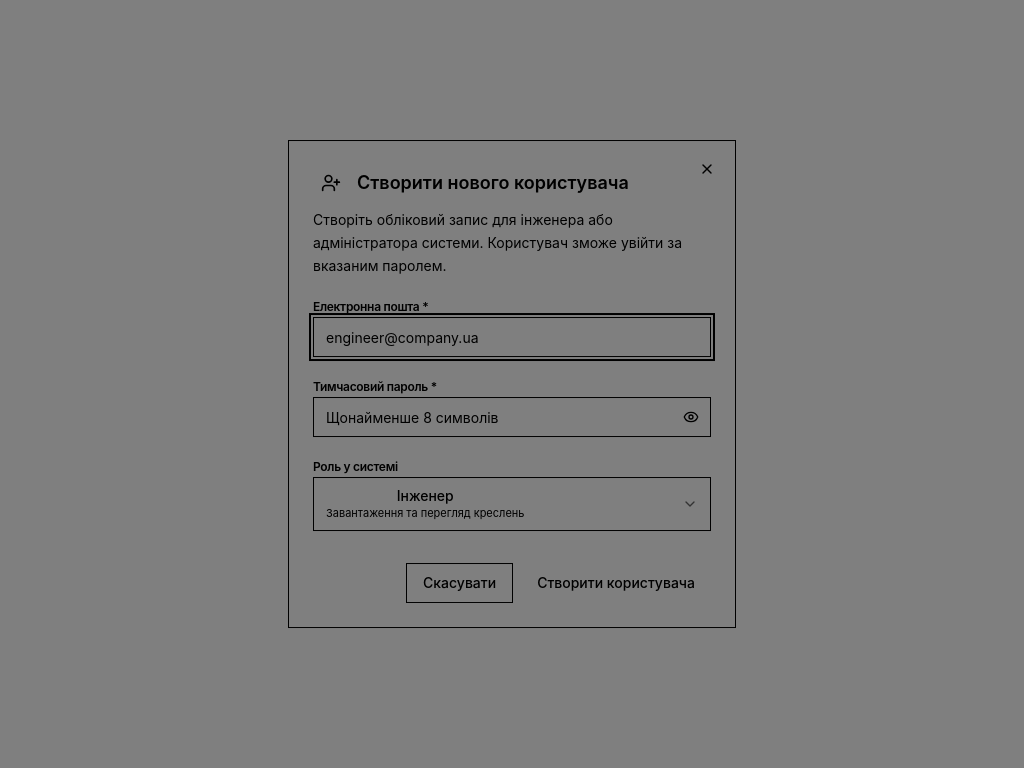
Test case: CreateUserDialog Component (BIM-66 Phase 4) › Client-side Form Validation › shows validation errors for required fields on empty submit and prevents mutation
The width and height of the screenshot is (1024, 768).
Click the button with test id "create-user-submit-button" at (616, 583), box [521,563,711,603]
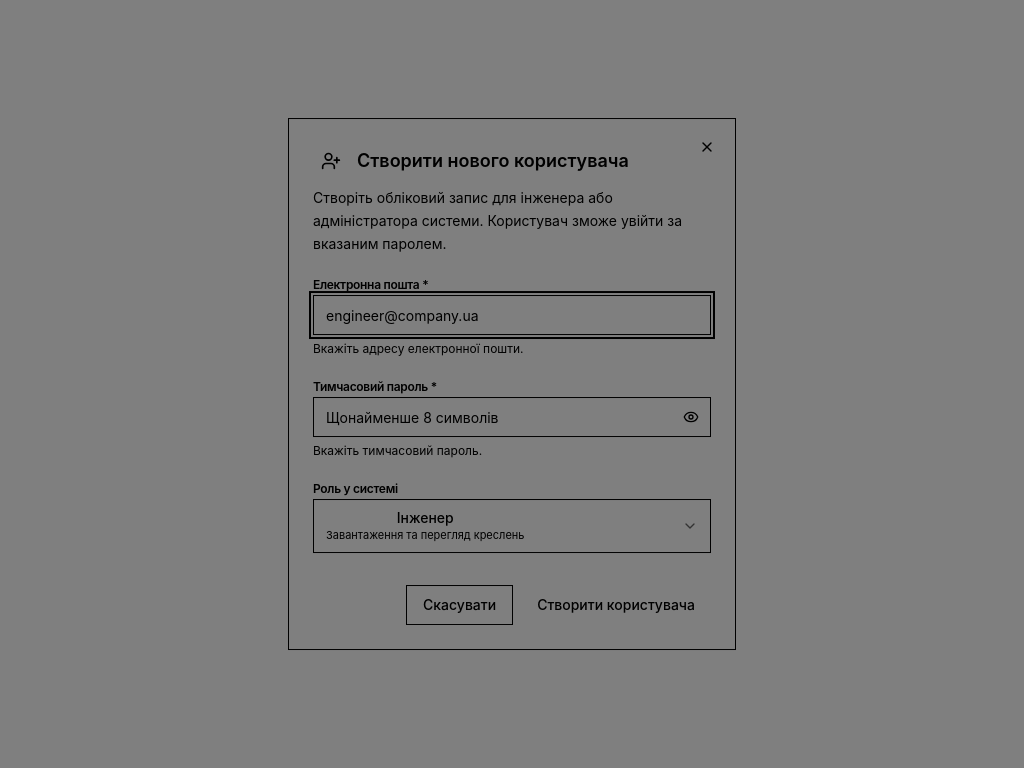
Expected: the text "Вкажіть адресу електронної пошти." is shown, [313,341,524,356]
Expected: the text "Вкажіть тимчасовий пароль." is shown, [313,443,482,458]
